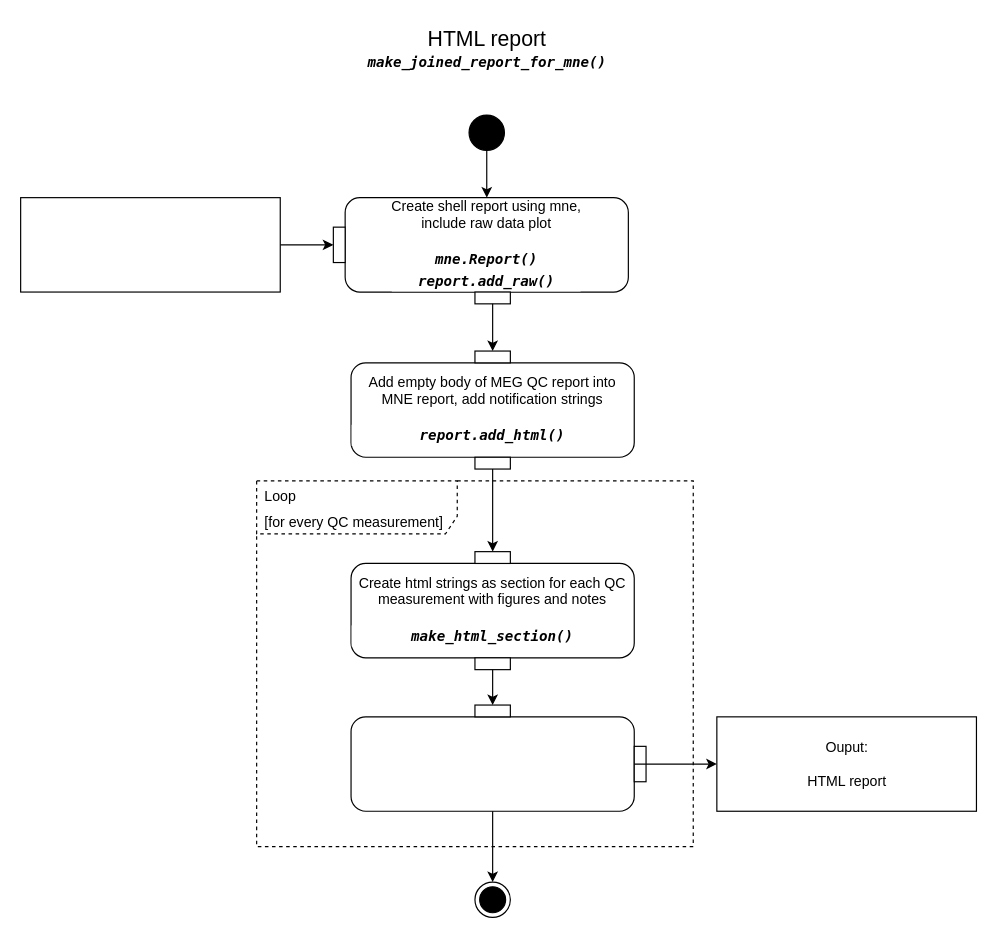
The diagram is 997 pixels wide and 938 high, and some of its shapes have lost their labels. The shapes that lost their labels are listed below. From the top down, each one's centre as x and y in pixels, then its label:
(149,244): Input: Raw data Dict with QC derivs Strings as notes for QC measurements
(492,763): Add html section strings into MNE report report.add_html()
